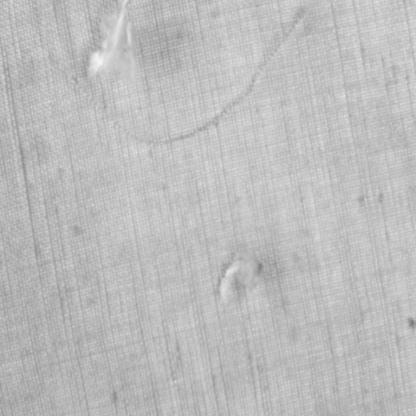objects: (44, 0, 318, 144), (86, 0, 136, 94), (217, 254, 266, 307)
